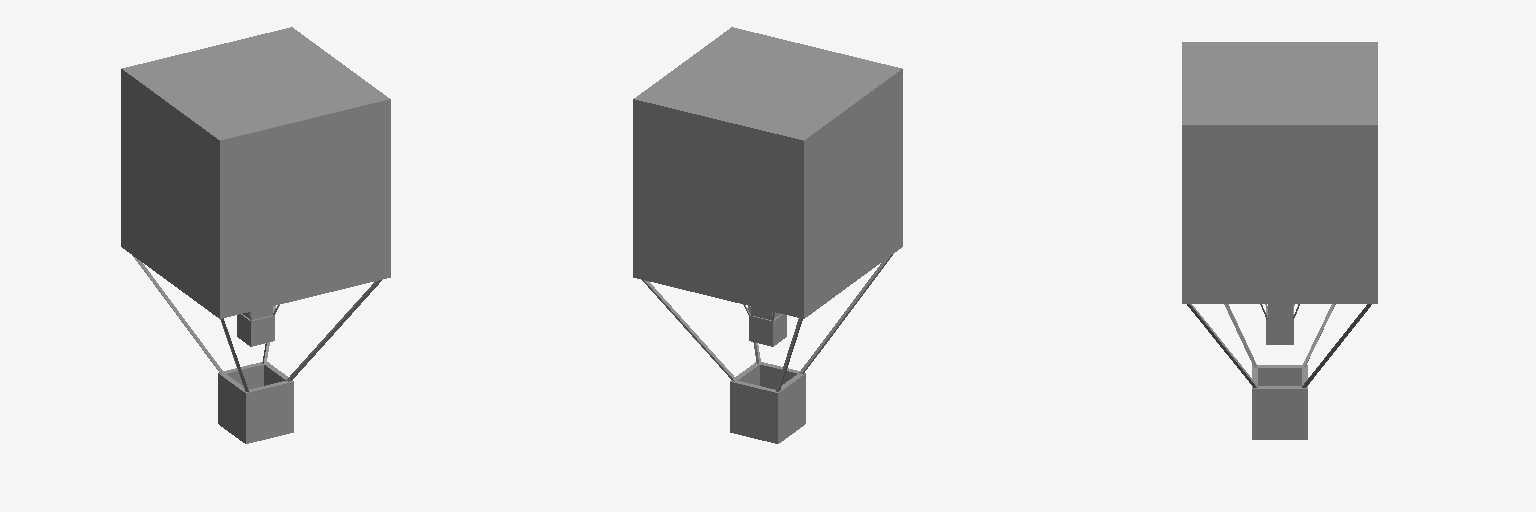
The model's file is air_balloons.obj.
The picture shows the model from 3 angles: view 1: azimuth 30°, elevation 25°; view 2: azimuth 150°, elevation 25°; view 3: azimuth 270°, elevation 25°; orthographic projection.
Visible parts, largest first — view 1: Cube_Cube.001; view 2: Cube_Cube.001; view 3: Cube_Cube.001.
Part boxes in pixels (left/top/right/bottom): Cube_Cube.001: left=121, top=27, right=390, bottom=443; Cube_Cube.001: left=633, top=27, right=902, bottom=443; Cube_Cube.001: left=1182, top=42, right=1377, bottom=439.
Bounding box in the file's own units: 37.8 × 72.9 × 37.8.